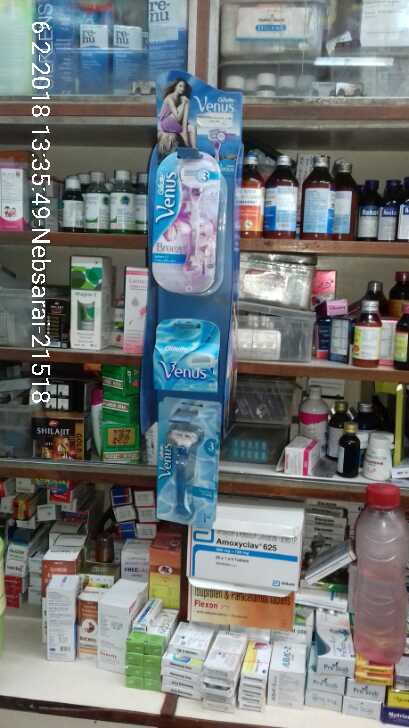venus: (149, 151, 232, 291), (152, 399, 222, 532), (153, 323, 226, 393)
